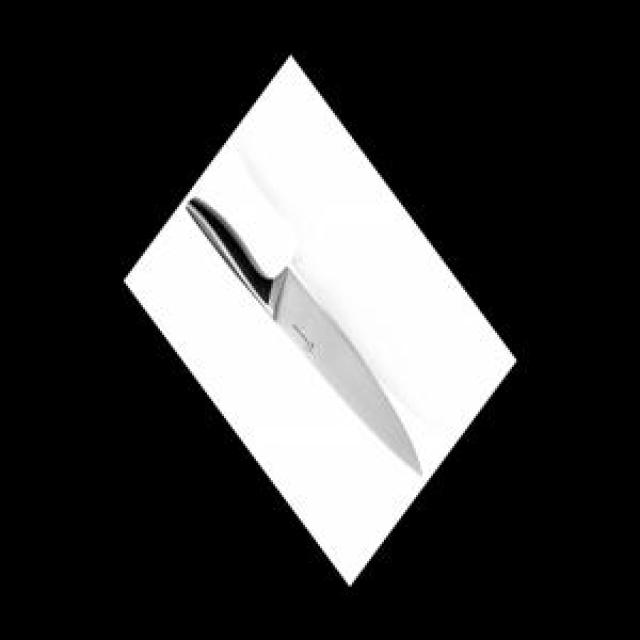knife: (188, 196, 424, 478)
